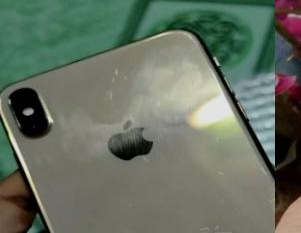scratch: (97, 59, 140, 89), (119, 148, 169, 173), (197, 159, 244, 184), (255, 186, 275, 214)
